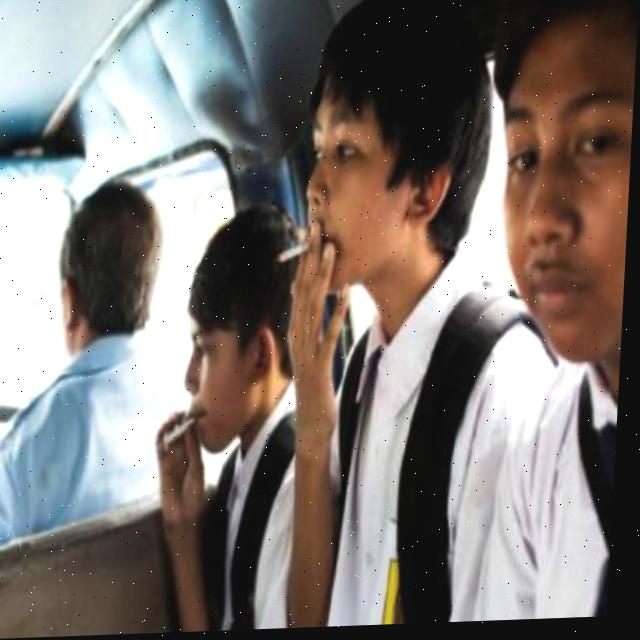cigarette: (168, 418, 201, 449), (279, 244, 315, 268)
